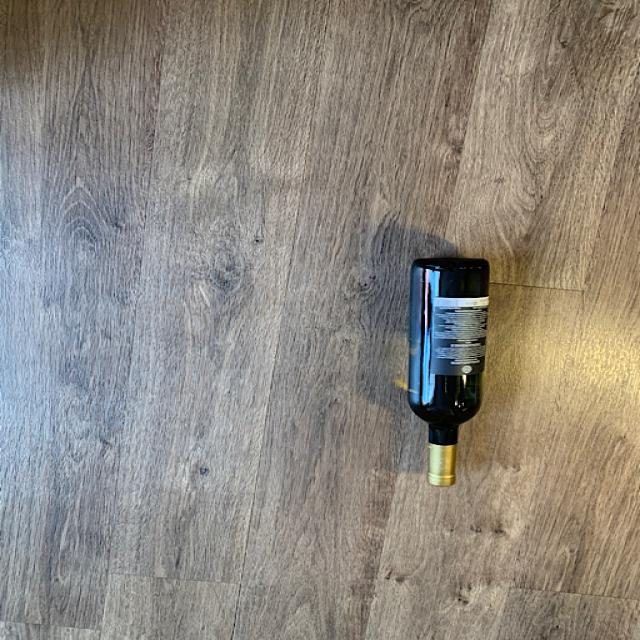litter: (411, 254, 494, 493)
